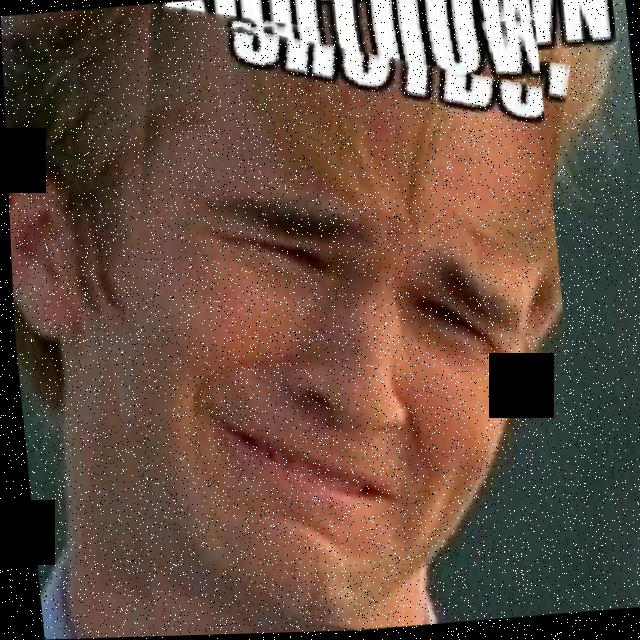sad: (49, 0, 586, 639)
